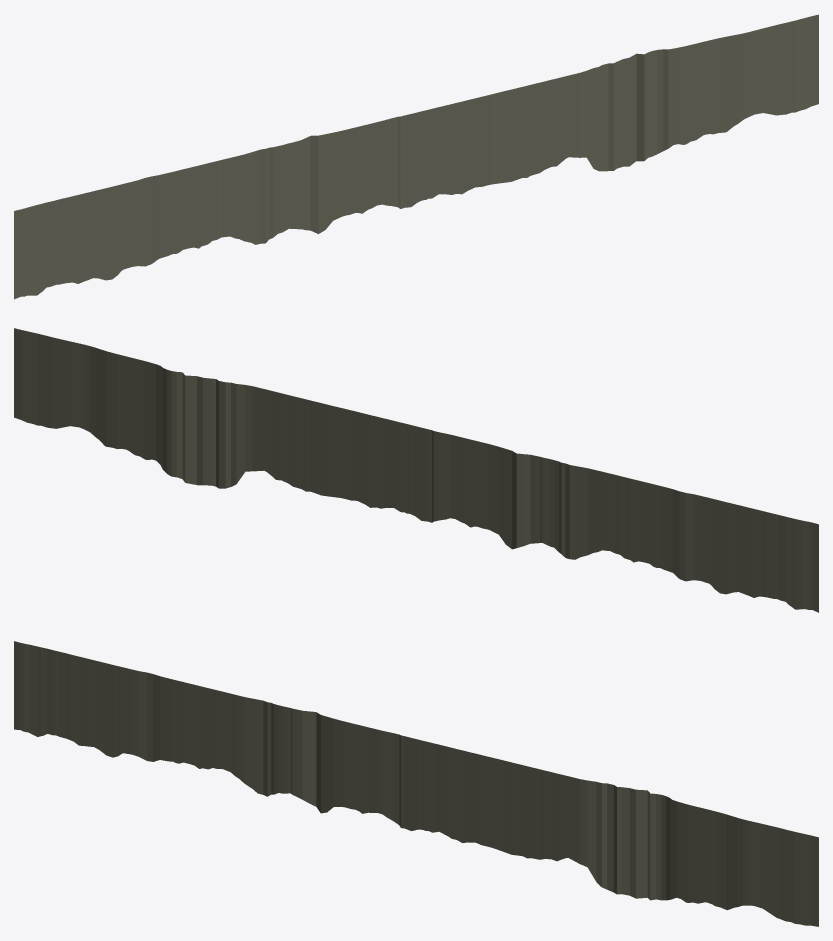
File: level0_collision.dae
The picture shows the model from 3 angles, top to bottom: view 1: azimuth 30°, elevation 25°; view 2: azimuth 150°, elevation 25°; view 3: azimuth 330°, elevation 25°; orthographic projection.
Parts seen in each view (by area): view 1: collision; view 2: collision; view 3: collision.
Part boxes in pixels (x1=…): collision: x1=14, y1=14, x2=818, y2=299; collision: x1=14, y1=328, x2=818, y2=612; collision: x1=14, y1=641, x2=818, y2=926.
Bounding box in the file's own units: 18.68 × 0.2472 × 2.42.
Materials: 1 (1 with a texture image).
